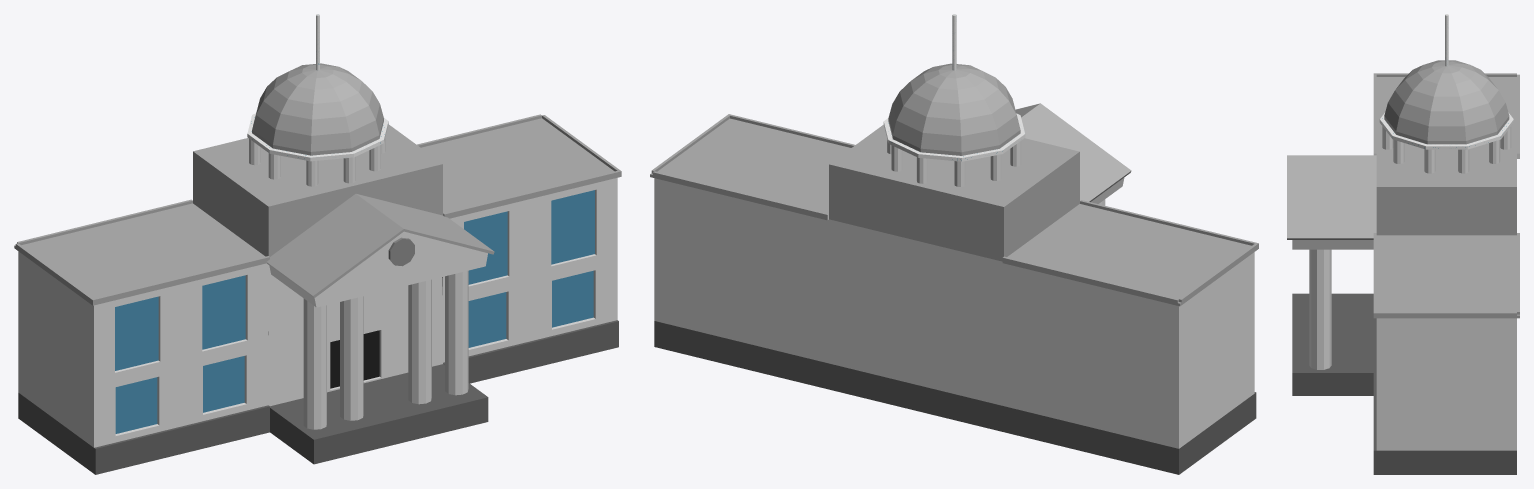
File: Goverment.fbx
The picture shows the model from 3 angles, left to right: view 1: azimuth 30°, elevation 25°; view 2: azimuth 150°, elevation 25°; view 3: azimuth 270°, elevation 25°; orthographic projection. The views are drawn at different scales.
Visible parts, largest first — view 1: Sphere; view 2: Sphere; view 3: Sphere.
Boxes of the visible parts, x1,y1,x2,y2 form: Sphere: (14,14,621,474); Sphere: (650,14,1258,474); Sphere: (1287,14,1519,474).
Bounding box in the file's own units: 202 × 134 × 82.86.
